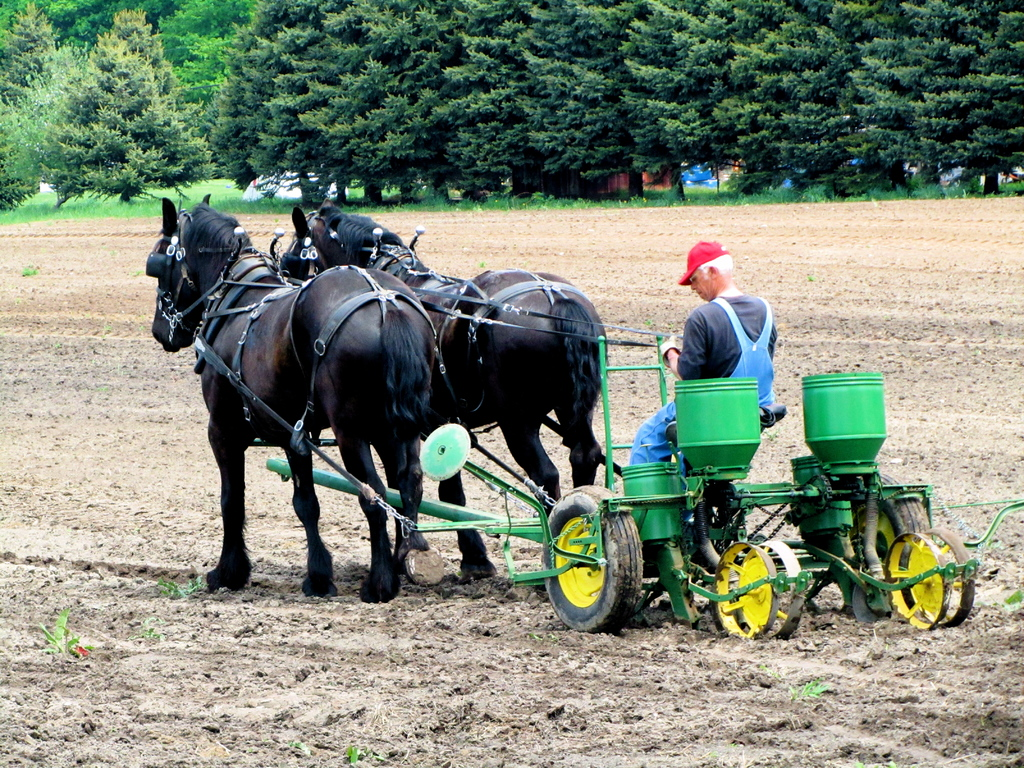horse: (145, 192, 434, 603)
